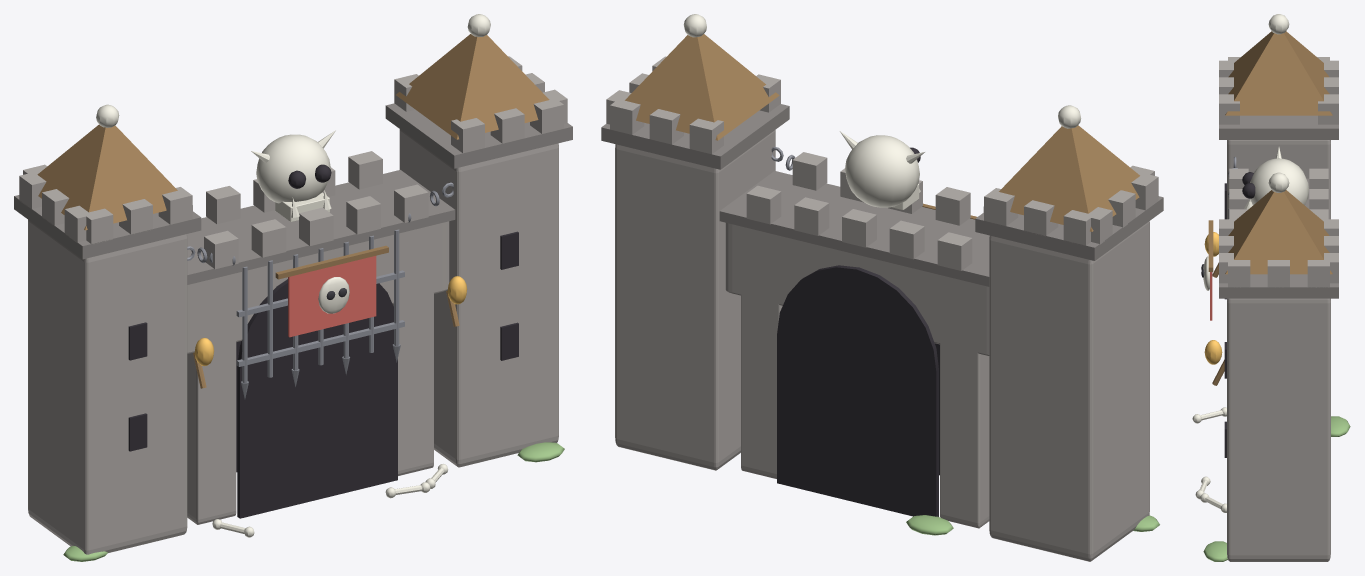
File: spawn_gate.glb
3 renders of one model, left to right at view 1: azimuth 30°, elevation 25°; view 2: azimuth 150°, elevation 25°; view 3: azimuth 270°, elevation 25°, orthographic. The views are drawn at different scales.
Visible parts, largest first — view 1: GateTower, GateTower.001, Tunnel, TunnelArch, WallPillar, WallTop, TowerRoof.005, WallLedge, TowerRoof.004, WallPillar.001, Banner, GateTowerCap.001 (+25 smaller); view 2: GateTower, GateTower.001, TunnelArch.001, Tunnel.001, WallTop, WallPillar, WallLedge, TowerRoof.005, TowerRoof.004, WallPillar.001, TopSkull, GateTowerCap.001 (+18 smaller); view 3: GateTower.001, TowerRoof.004, TowerRoof.005, GateTower, GateTowerCap, GateTowerCap.001, TopSkull, Merlon.075, Merlon.072, Merlon.078, Merlon.067, Merlon.068 (+20 smaller).
Part boxes in pixels (left/top/right/bottom): GateTower: left=28, top=220, right=187, bottom=554; GateTower.001: left=399, top=129, right=558, bottom=467; Tunnel: left=237, top=332, right=397, bottom=518; TunnelArch: left=237, top=279, right=394, bottom=434; WallPillar: left=187, top=312, right=236, bottom=524; WallTop: left=187, top=221, right=449, bottom=353; TowerRoof.005: left=396, top=34, right=549, bottom=139; WallLedge: left=187, top=170, right=455, bottom=284; TowerRoof.004: left=37, top=124, right=177, bottom=230; WallPillar.001: left=392, top=293, right=433, bottom=475; Banner: left=288, top=256, right=376, bottom=337; GateTowerCap.001: left=385, top=103, right=572, bottom=168; GateTower: left=989, top=221, right=1149, bottom=561; GateTower.001: left=615, top=130, right=775, bottom=470; TunnelArch.001: left=777, top=265, right=938, bottom=438; Tunnel.001: left=777, top=333, right=938, bottom=516; WallTop: left=725, top=223, right=989, bottom=356; WallPillar: left=940, top=314, right=989, bottom=528; WallLedge: left=719, top=171, right=989, bottom=286; TowerRoof.005: left=625, top=34, right=779, bottom=140; TowerRoof.004: left=999, top=125, right=1139, bottom=231; WallPillar.001: left=741, top=266, right=782, bottom=478; TopSkull: left=845, top=135, right=919, bottom=207; GateTowerCap.001: left=601, top=104, right=789, bottom=169; GateTower.001: left=1227, top=298, right=1330, bottom=561; TowerRoof.004: left=1225, top=31, right=1332, bottom=115; TowerRoof.005: left=1225, top=190, right=1332, bottom=274; GateTower: left=1227, top=140, right=1330, bottom=219; GateTowerCap: left=1219, top=115, right=1338, bottom=139; GateTowerCap.001: left=1219, top=274, right=1338, bottom=298; TopSkull: left=1250, top=158, right=1308, bottom=205; Merlon.075: left=1267, top=260, right=1289, bottom=287; Merlon.072: left=1228, top=257, right=1250, bottom=287; Merlon.078: left=1307, top=260, right=1329, bottom=287; Merlon.067: left=1219, top=94, right=1239, bottom=124; Merlon.068: left=1318, top=94, right=1338, bottom=124.
Bounding box in the file's own units: 5.01 × 4.1 × 1.58.
